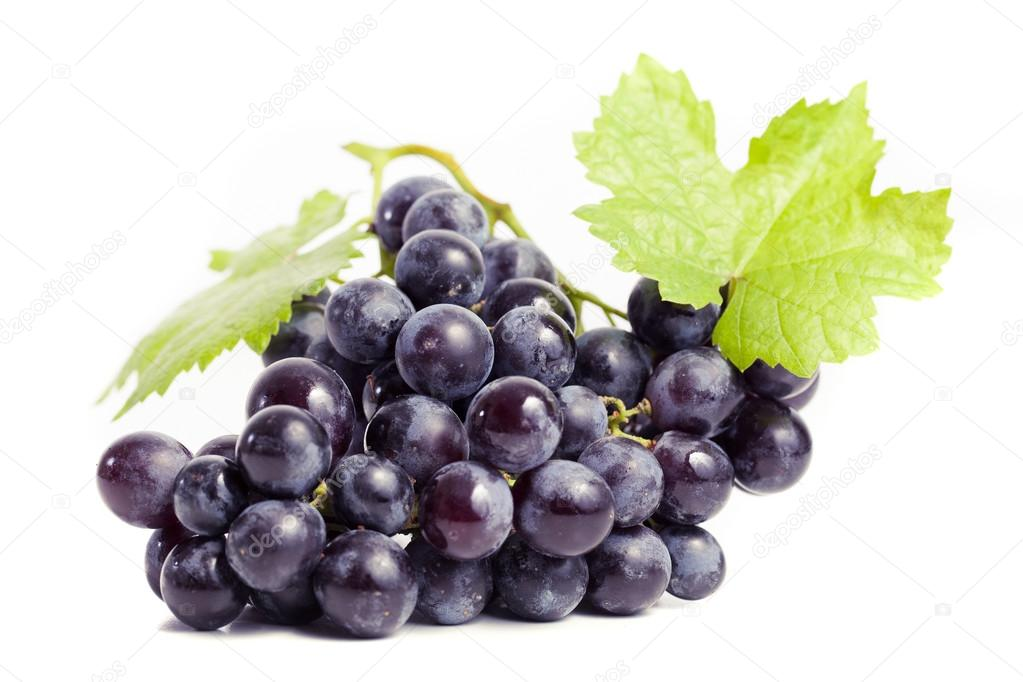Black grapes: (87, 189, 843, 628)
